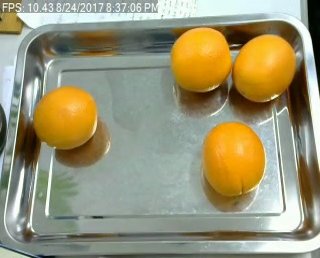Orange: (201, 121, 265, 196), (232, 33, 296, 101), (32, 85, 98, 148), (169, 26, 231, 91)
